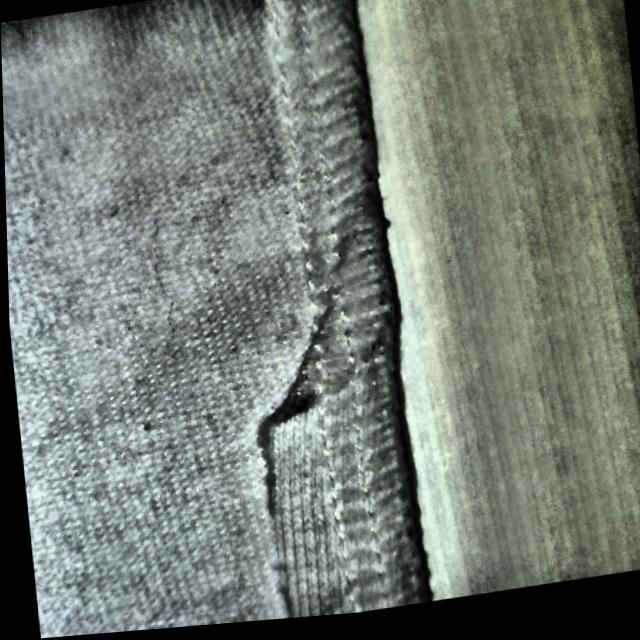seam: (216, 316, 427, 627)
